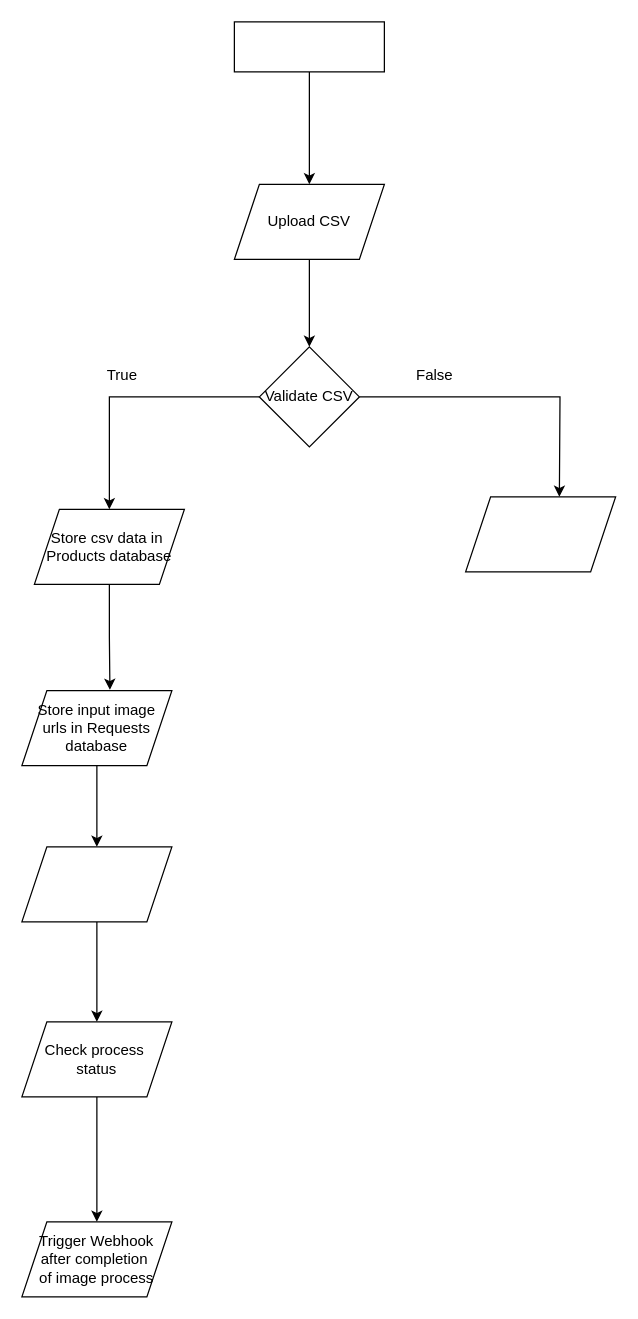
This 638x1319 diagram has some shape labels left out. Here are the shapes that lost their labels. From the top down, the centre of each, then its label:
At point (308, 46): "User".
At point (540, 534): "Raise Exception".
At point (96, 884): "asynchronously process images".
